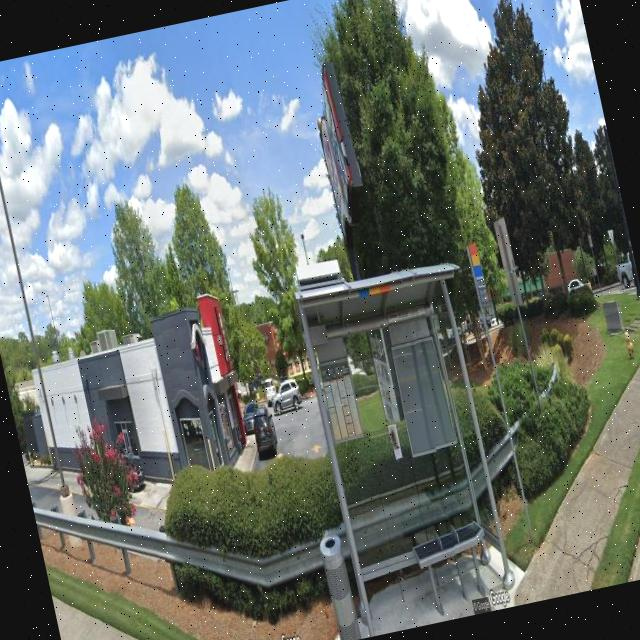seating: (410, 520, 498, 612)
shelter: (292, 253, 532, 637)
trash_can: (316, 528, 362, 640)
